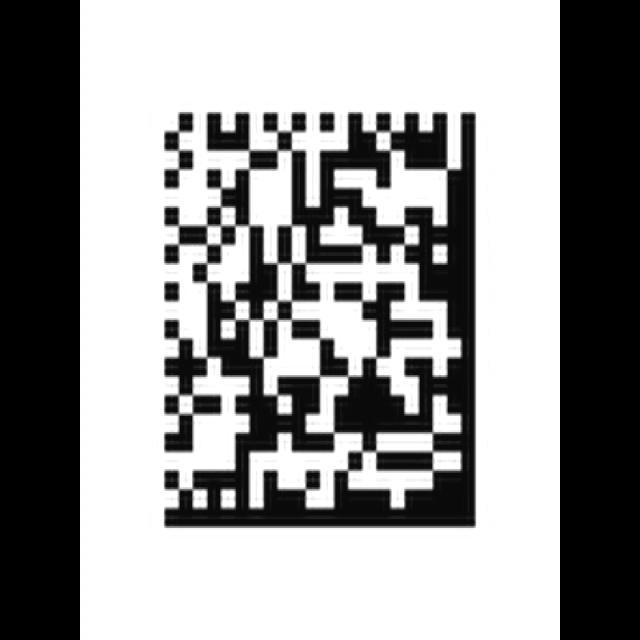Data-Matrix: (155, 98, 487, 544)
